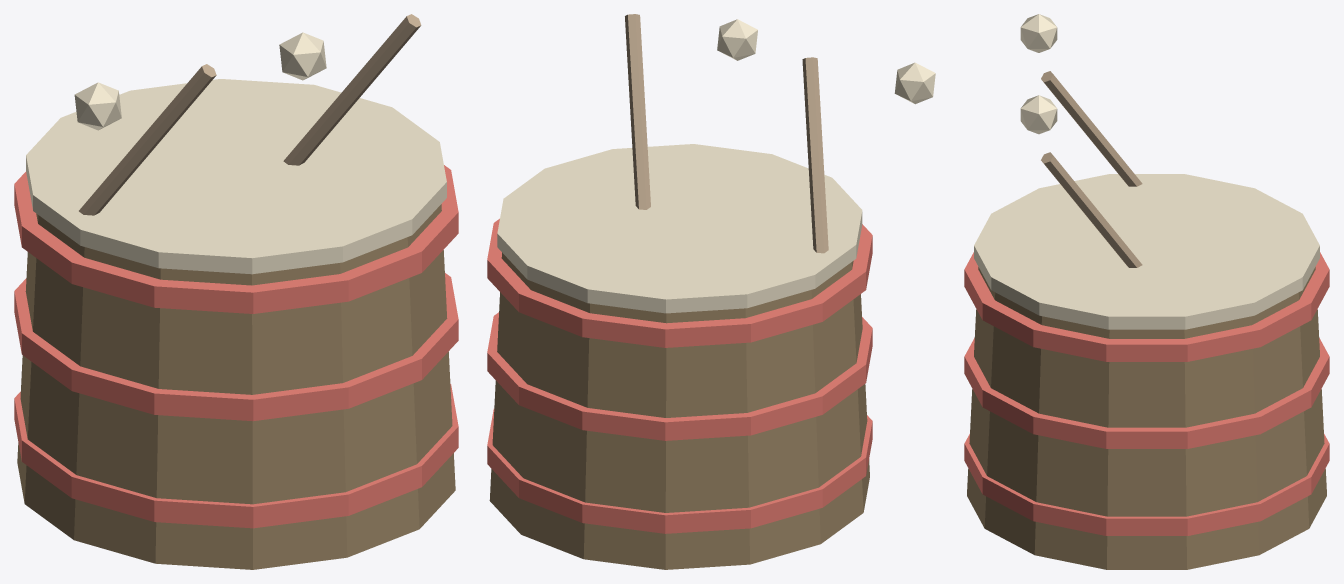
Rendered from war_drum.glb.
The picture shows the model from 3 angles, left to right: view 1: azimuth 30°, elevation 25°; view 2: azimuth 150°, elevation 25°; view 3: azimuth 270°, elevation 25°; orthographic projection. The views are drawn at different scales.
Parts seen in each view (by area): view 1: war_drum; view 2: war_drum; view 3: war_drum.
Boxes of the visible parts, x1=… form: war_drum: x1=14, y1=14, x2=458, y2=569; war_drum: x1=487, y1=14, x2=935, y2=569; war_drum: x1=964, y1=14, x2=1329, y2=569.
Size of the model in its own units: 1.62 by 1.84 by 1.52.
